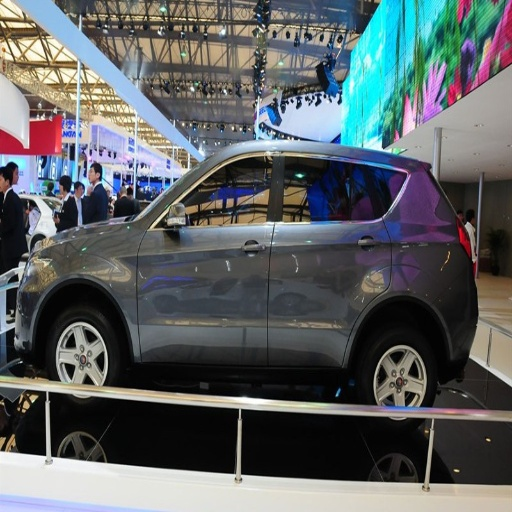back_left_door: (268, 147, 389, 364)
front_left_door: (137, 149, 277, 362)
